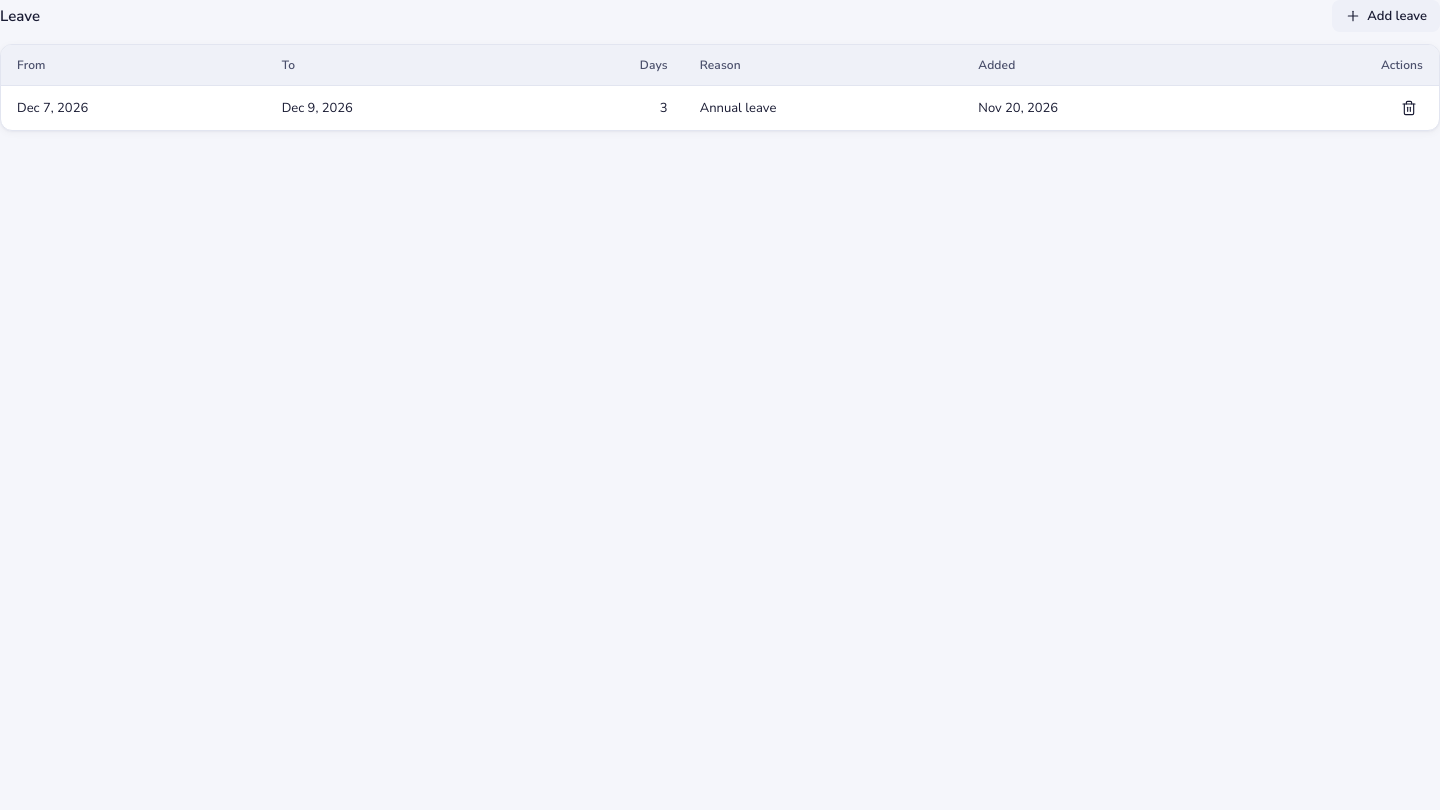
Test: DriverLeave management › deleting leave › names the period in the confirmation, sends nothing on Cancel, and deletes after confirming
What coordinates should you click on to do the following:
click the button named "Delete leave from"
I would click on:
 (1409, 108)
Its box is [1395,94,1423,122].
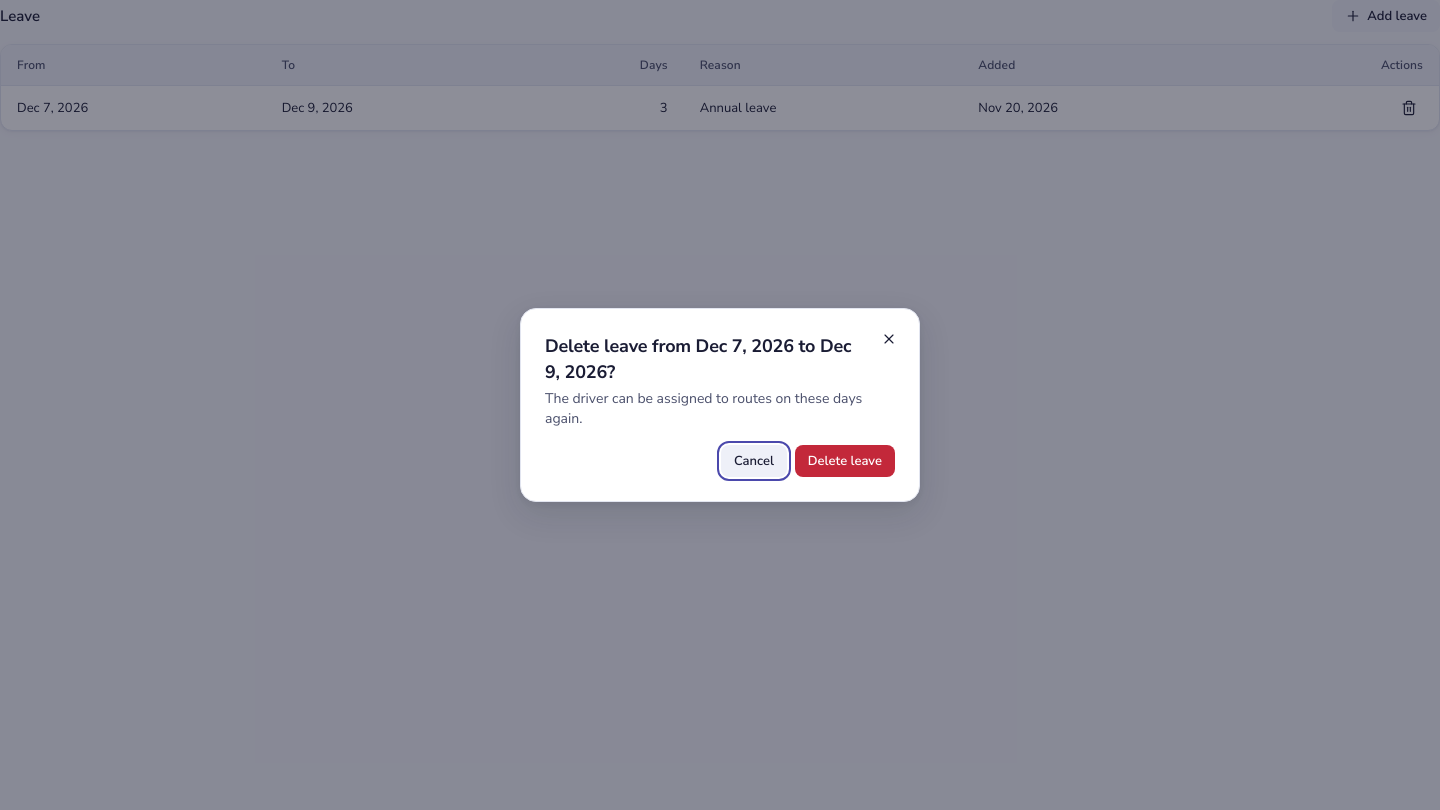
Expected: the dialog is shown, [520,308,920,502]
What coordinates should you click on to do the following:
click the button "Cancel"
I would click on:
 (754, 461)
Its box is [721,445,787,477].
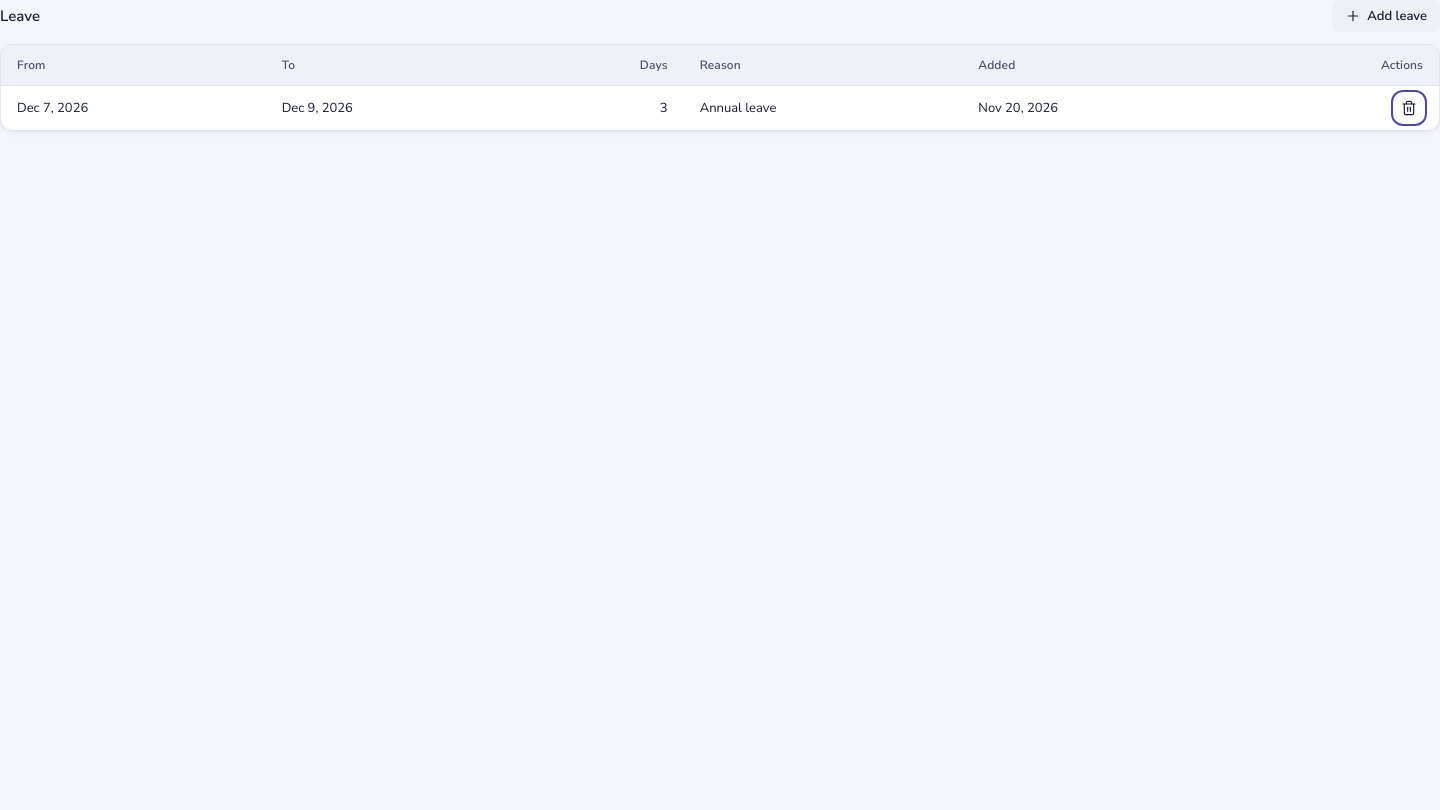
Expected: the dialog is gone
What coordinates should you click on to do the following:
click the button named "Delete leave from"
I would click on:
 (1409, 108)
Its box is [1395,94,1423,122].
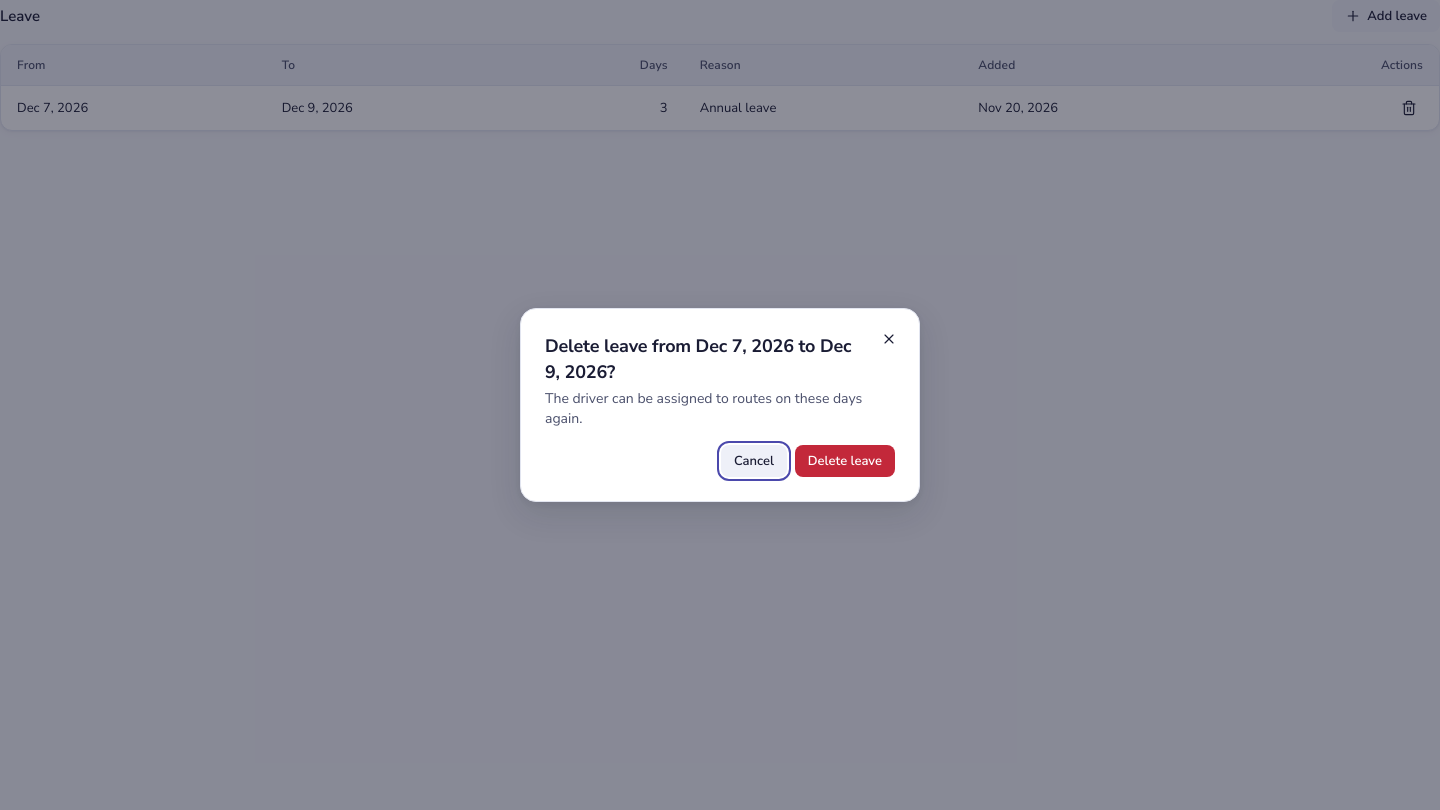
What coordinates should you click on to do the following:
click the button "Delete leave"
I would click on:
 (845, 461)
Its box is [795,445,895,477].
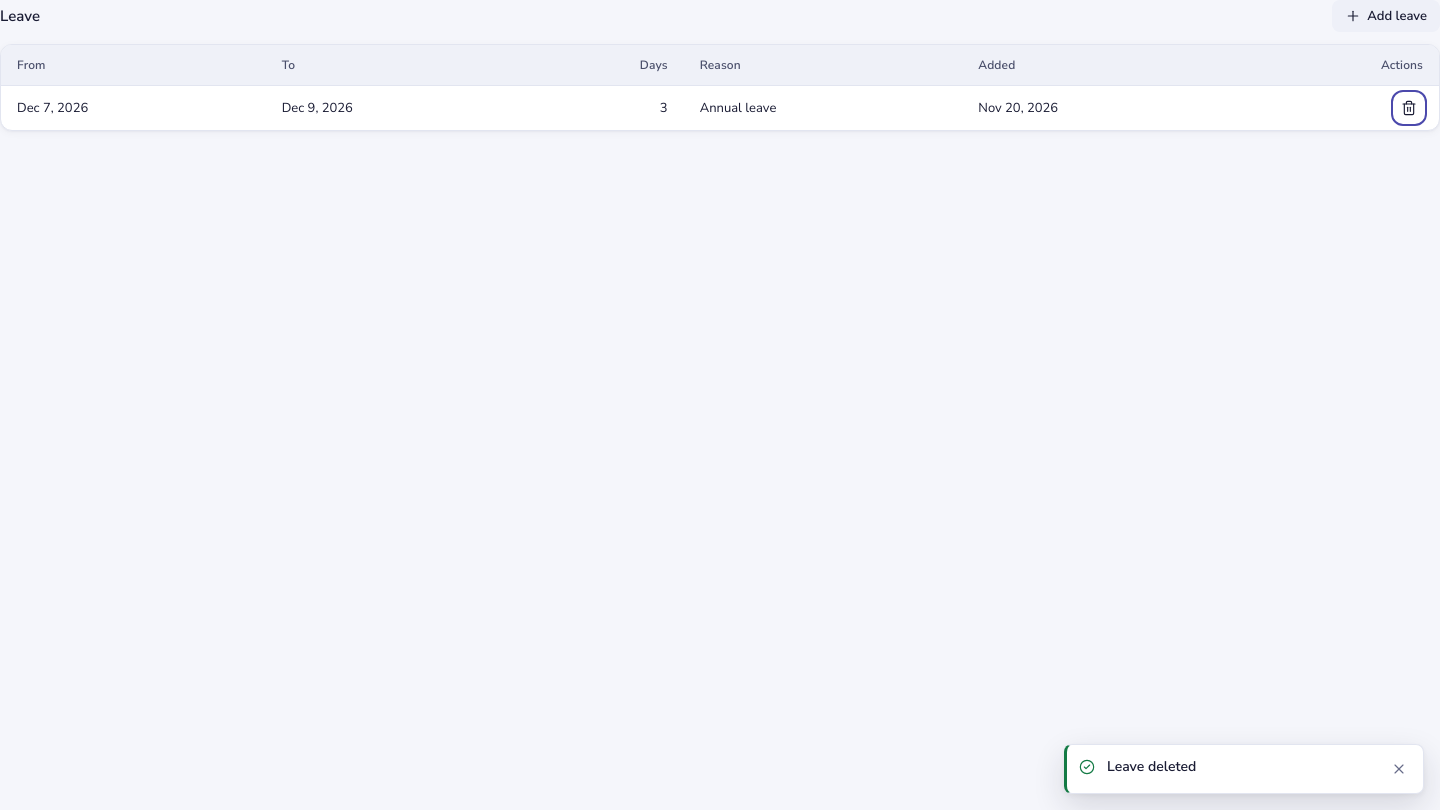
Expected: the text "Leave deleted" is shown, [1107,757,1196,776]
